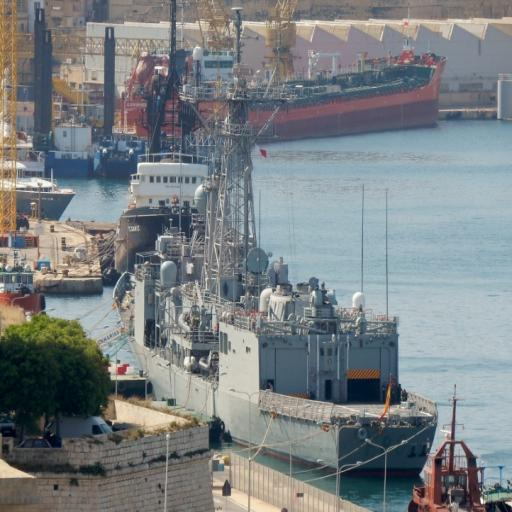Fragata: (112, 2, 441, 484)
